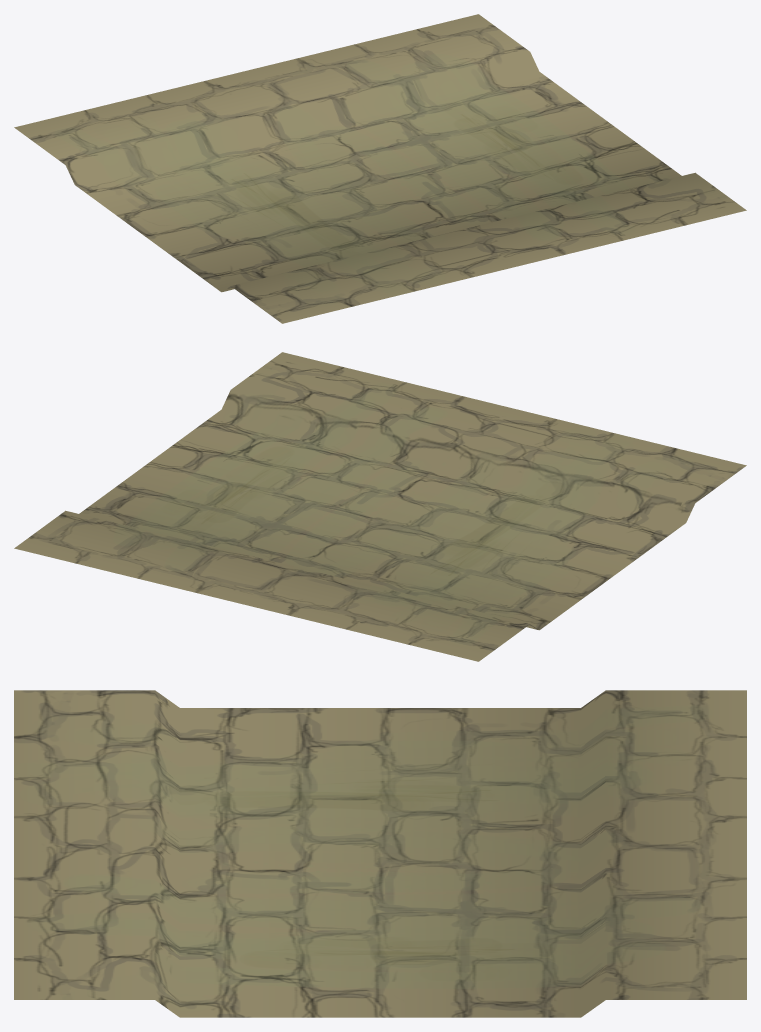
The model's file is FloorCanal.fbx.
The picture shows the model from 3 angles, top to bottom: view 1: azimuth 30°, elevation 25°; view 2: azimuth 150°, elevation 25°; view 3: azimuth 270°, elevation 25°; orthographic projection. The views are drawn at different scales.
Parts seen in each view (by area): view 1: FloorCanal; view 2: FloorCanal; view 3: FloorCanal.
Boxes of the visible parts, <box> form: FloorCanal: <box>14,14,746,323</box>; FloorCanal: <box>14,352,746,661</box>; FloorCanal: <box>14,690,746,1017</box>.
Size of the model in its own units: 300 by 8.03 by 300.
